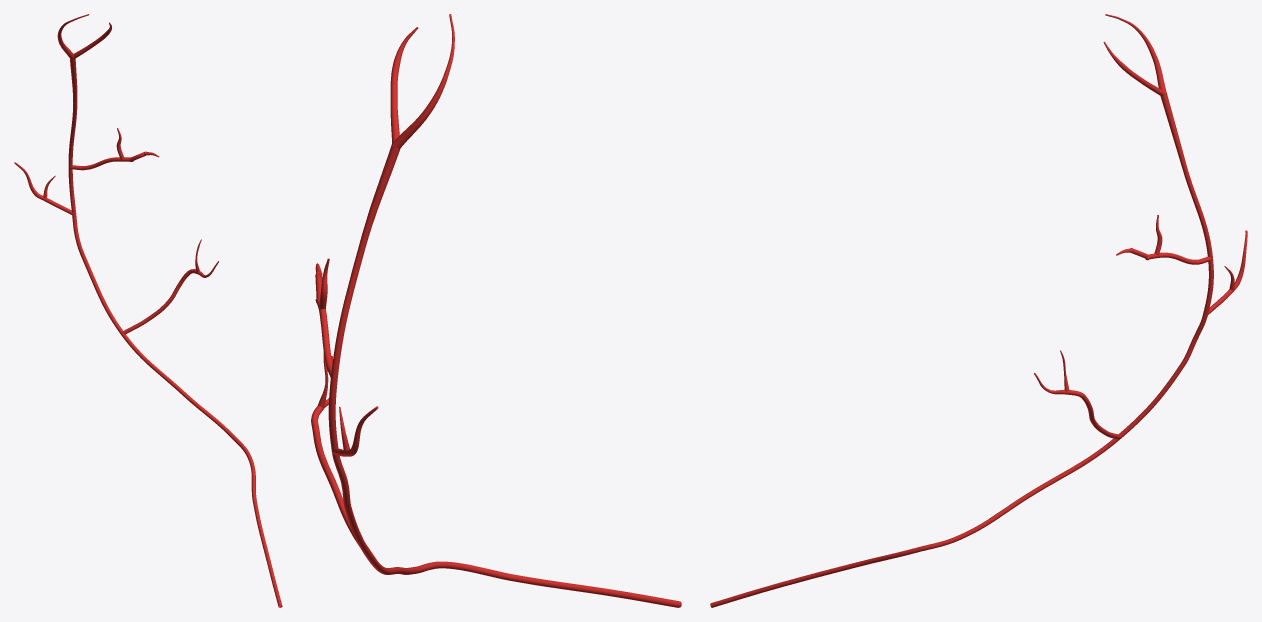
File: circulatorio-occipital-artery-l.glb
3 renders of one model, left to right at view 1: azimuth 30°, elevation 25°; view 2: azimuth 150°, elevation 25°; view 3: azimuth 270°, elevation 25°, orthographic. The views are drawn at different scales.
Parts seen in each view (by area): view 1: Occipital artery.l; view 2: Occipital artery.l; view 3: Occipital artery.l.
Part boxes in pixels (x1,y1,x2,y2): Occipital artery.l: (14, 14, 282, 607); Occipital artery.l: (311, 14, 681, 607); Occipital artery.l: (710, 14, 1247, 607).
Bounding box in the file's own units: 0.0322 × 0.1269 × 0.107.
